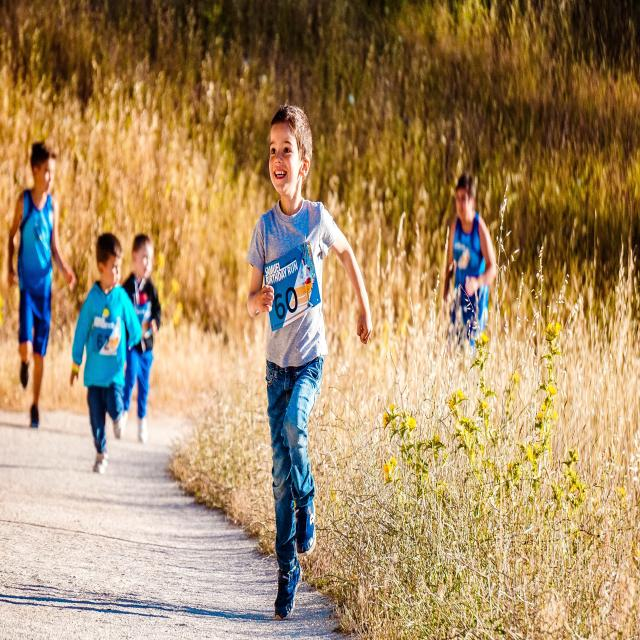Person: (246, 105, 374, 621), (8, 143, 76, 430), (70, 232, 144, 473), (446, 171, 497, 349), (121, 231, 162, 444)
